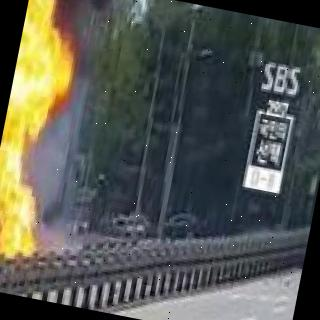fire: (6, 32, 80, 124), (0, 182, 44, 271), (0, 123, 33, 187)
